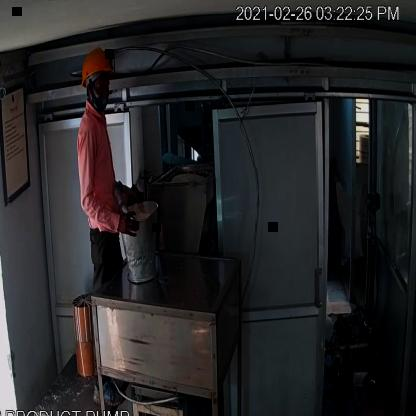helmet: (81, 42, 114, 87)
